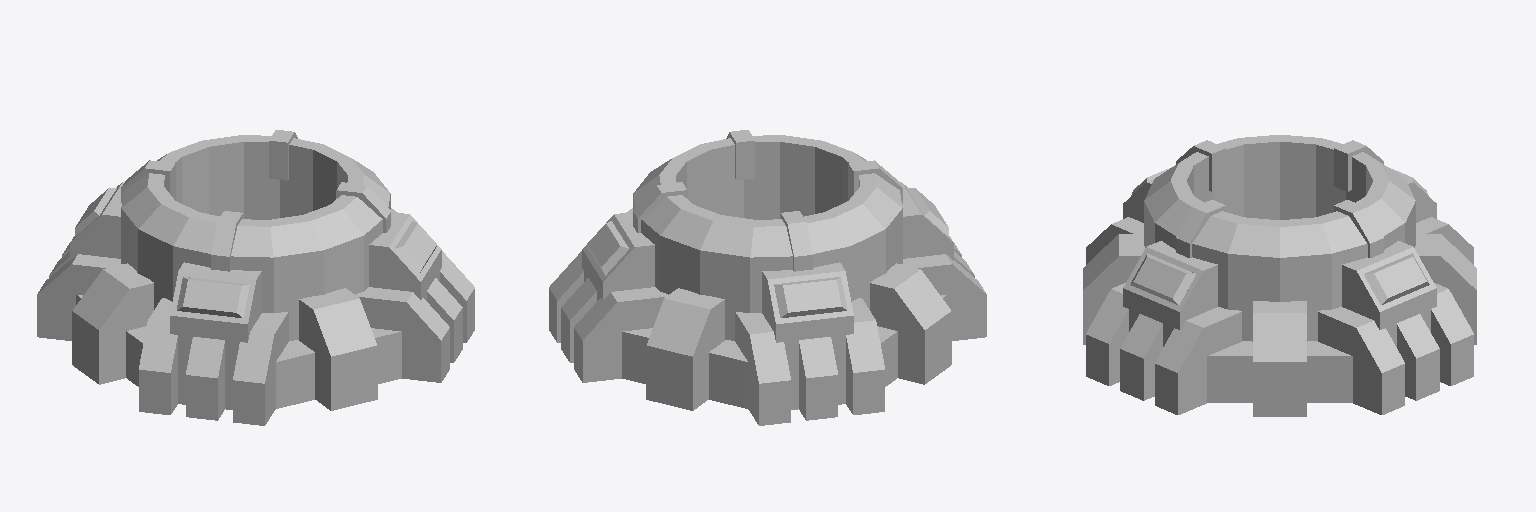
Rendered from legperditionbase.obj.
3 renders of one model, left to right at view 1: azimuth 30°, elevation 25°; view 2: azimuth 150°, elevation 25°; view 3: azimuth 270°, elevation 25°, orthographic.
Parts seen in each view (by area): view 1: disc,ox=-0.00,oy=0.00,oz=0.00,p=base,; view 2: disc,ox=-0.00,oy=0.00,oz=0.00,p=base,; view 3: disc,ox=-0.00,oy=0.00,oz=0.00,p=base,.
Part boxes in pixels (bbox=[...]): disc,ox=-0.00,oy=0.00,oz=0.00,p=base,: bbox=[37, 130, 474, 425]; disc,ox=-0.00,oy=0.00,oz=0.00,p=base,: bbox=[549, 130, 986, 425]; disc,ox=-0.00,oy=0.00,oz=0.00,p=base,: bbox=[1083, 135, 1476, 416].
Size of the model in its own units: 77.17 by 34.32 by 77.17.